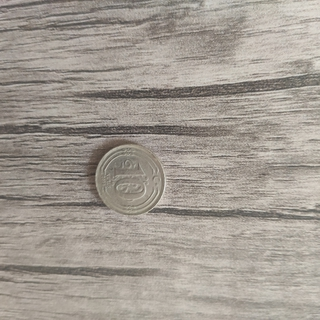10KURUS: (93, 141, 167, 216)
